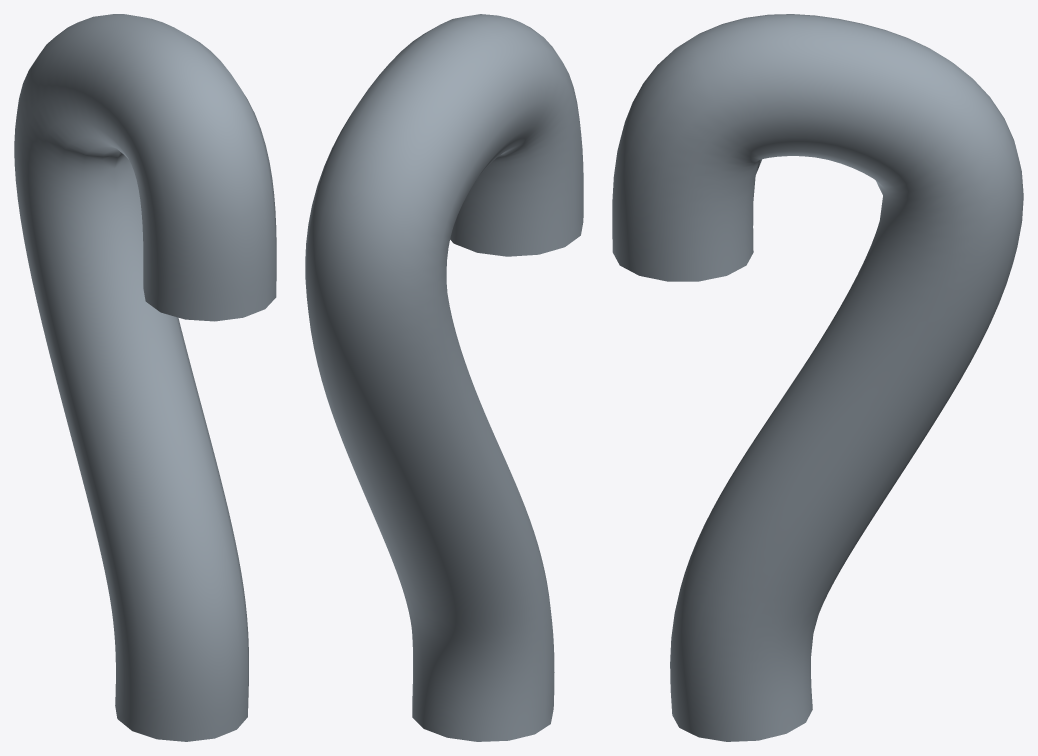
The model's file is 10 - hook.dae.
The picture shows the model from 3 angles, left to right: view 1: azimuth 30°, elevation 25°; view 2: azimuth 150°, elevation 25°; view 3: azimuth 270°, elevation 25°; orthographic projection. The views are drawn at different scales.
Bounding box in the file's own units: 0.000508 × 0.00277 × 0.00149.
